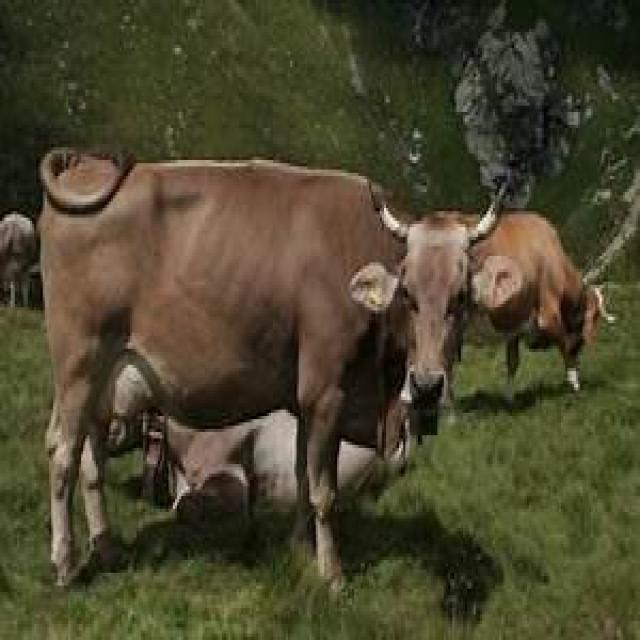cow: (36, 150, 480, 592), (444, 211, 606, 394)
